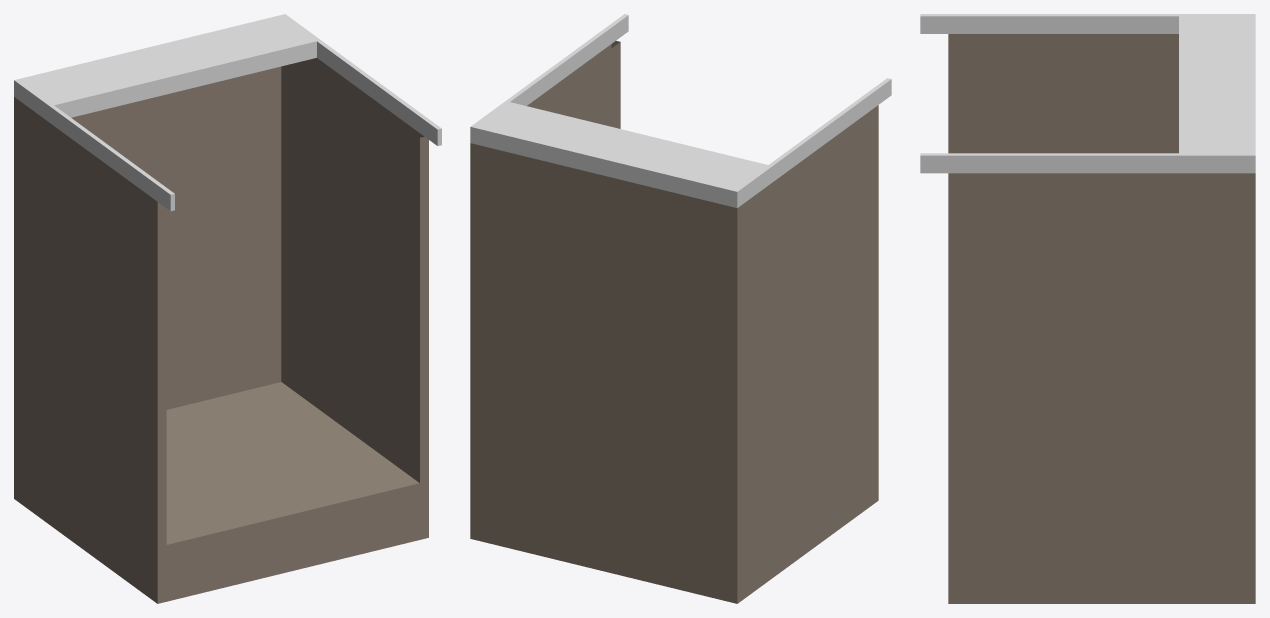
The model's file is Kitchen1_C5_06.fbx.
3 views of the same model, side by side, from view 1: azimuth 30°, elevation 25°; view 2: azimuth 150°, elevation 25°; view 3: azimuth 270°, elevation 25° (orthographic). The views are drawn at different scales.
Visible parts, largest first — view 1: Kitchen1_C5_06; view 2: Kitchen1_C5_06; view 3: Kitchen1_C5_06.
Part boxes in pixels (<box>): Kitchen1_C5_06: <box>14,14,441,603</box>; Kitchen1_C5_06: <box>470,14,891,603</box>; Kitchen1_C5_06: <box>920,14,1255,603</box>.
Bounding box in the file's own units: 60 × 88.5 × 60.
